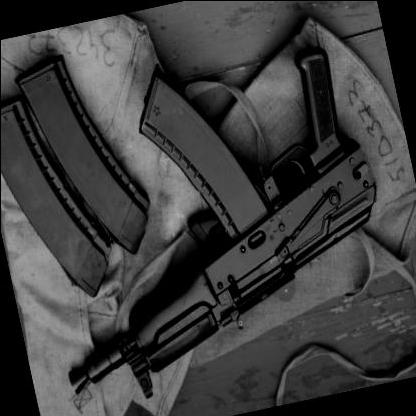rifle: (4, 26, 412, 398)
